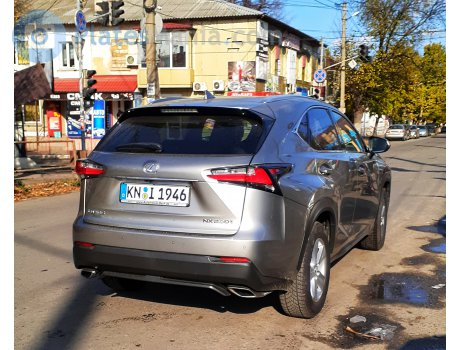License Plates: (127, 189, 185, 203)
